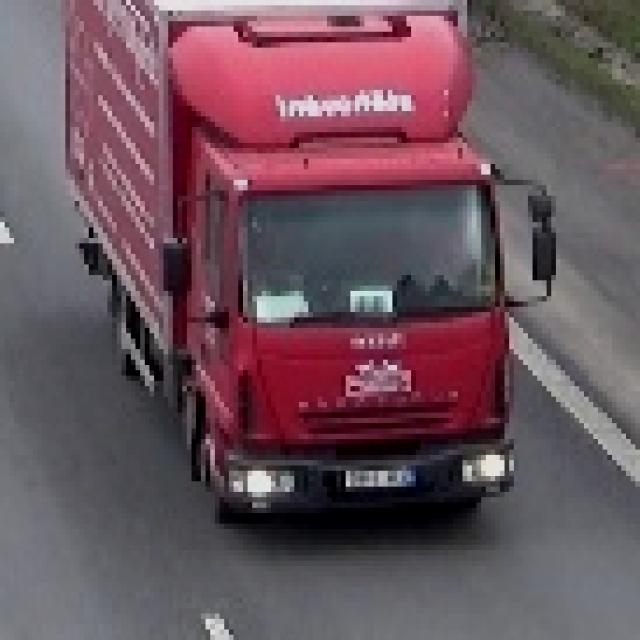truck: (57, 1, 557, 525)
